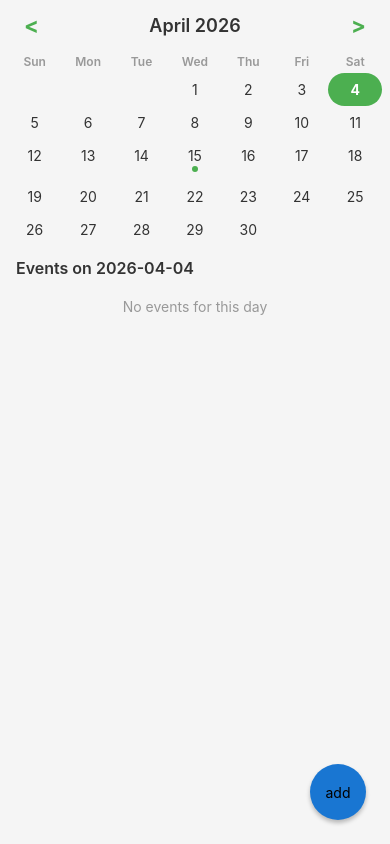
Test: CalendarScreen — event creation › opens create event modal on FAB press
The image size is (390, 844).
Click the element with test id "create-event-fab" at (338, 792), box [310,764,366,820]
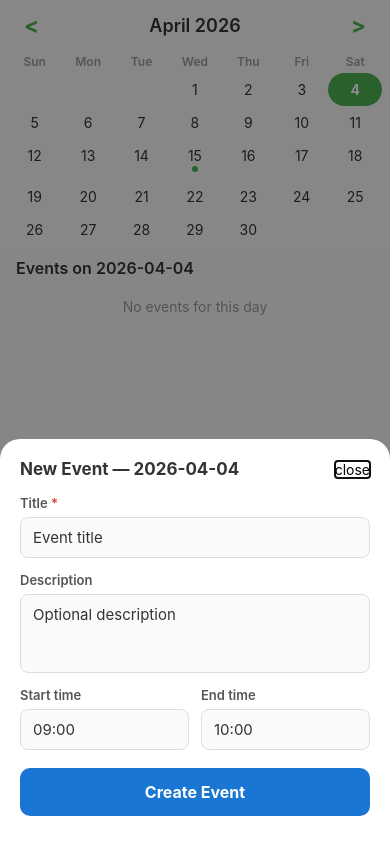
Now the dialog with test id "create-event-modal" is shown
